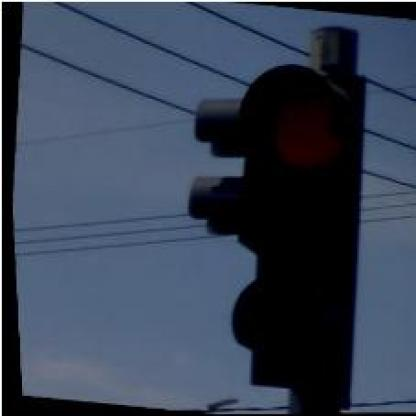red: (207, 59, 383, 388)
